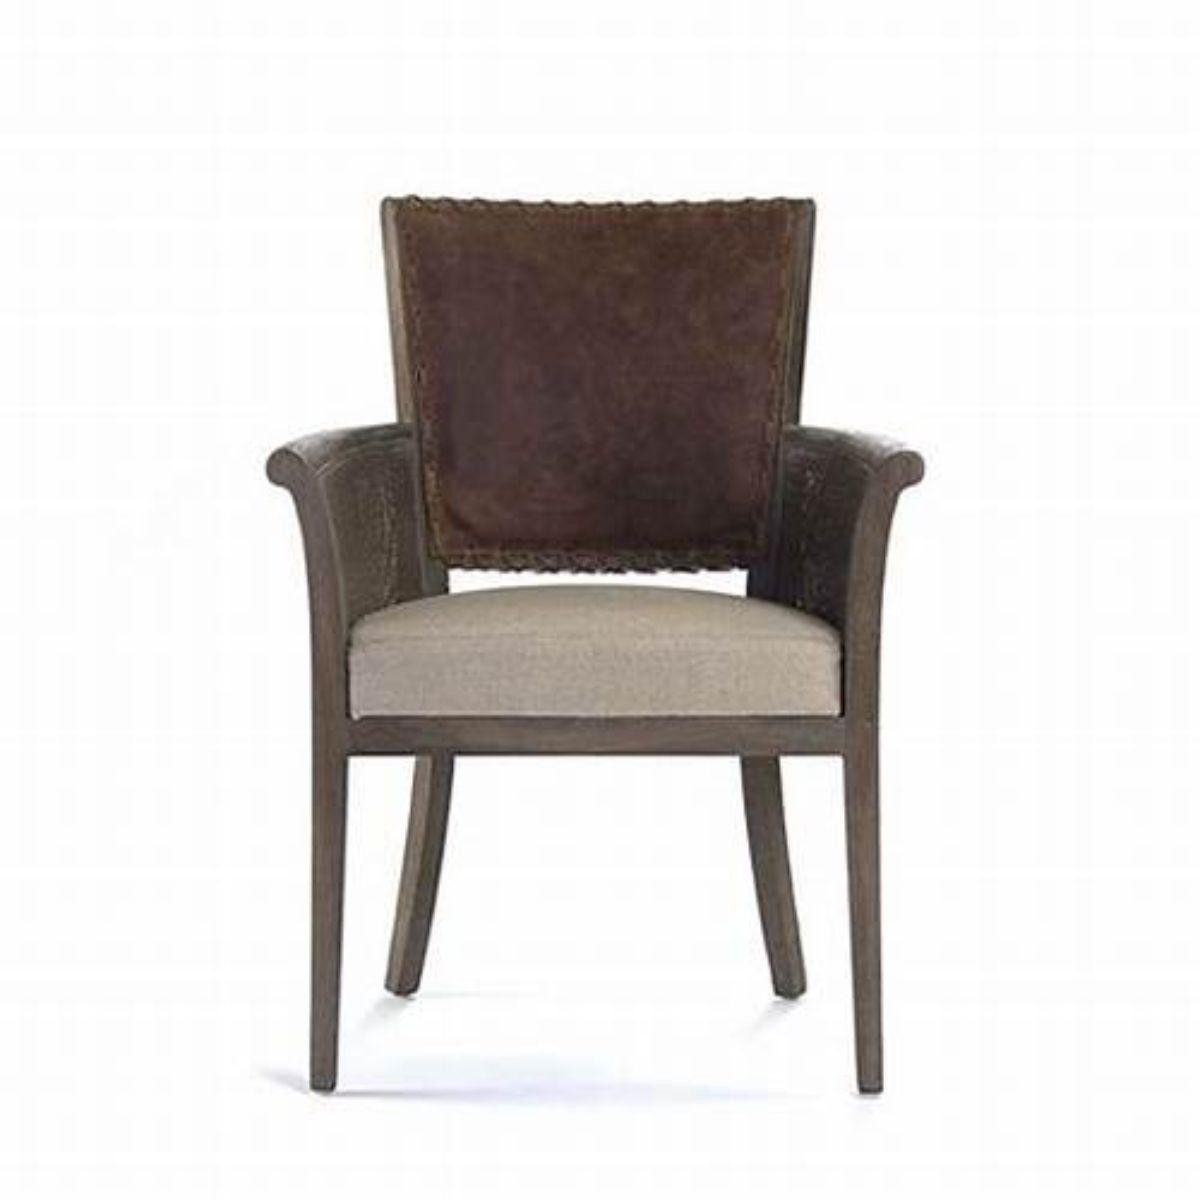Chair: (260, 185, 920, 1098)
